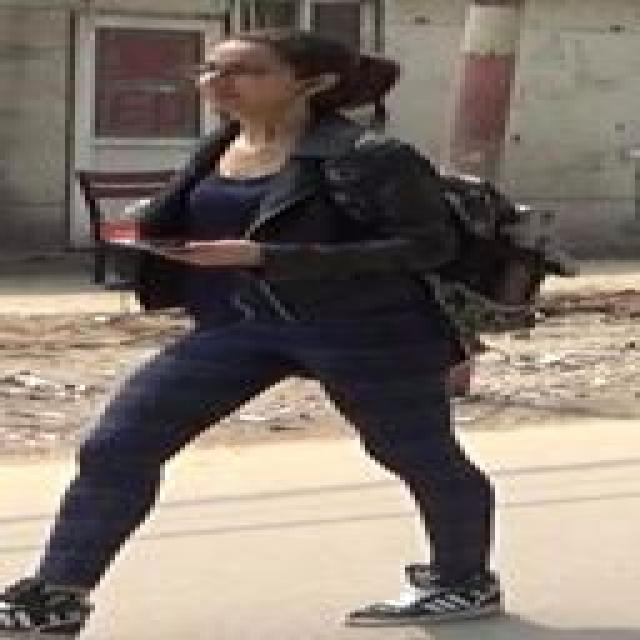adult: (0, 28, 496, 632)
